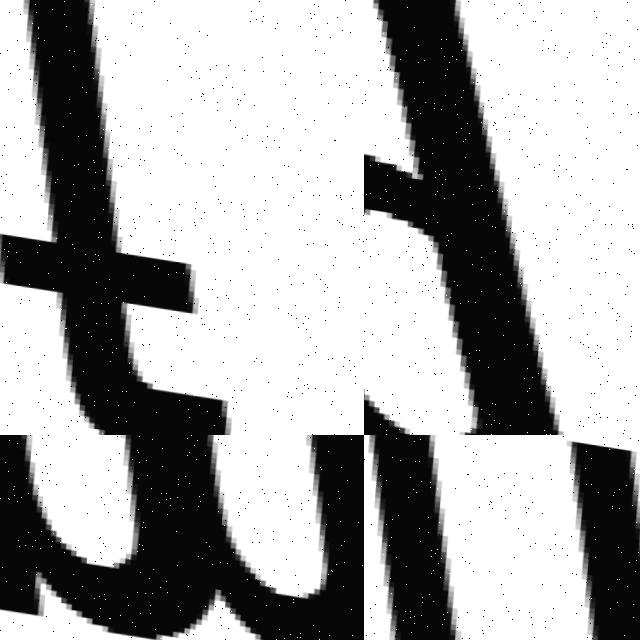F: (0, 0, 281, 435)
M: (0, 435, 364, 640), (364, 435, 640, 640)
Q: (364, 0, 627, 435)
